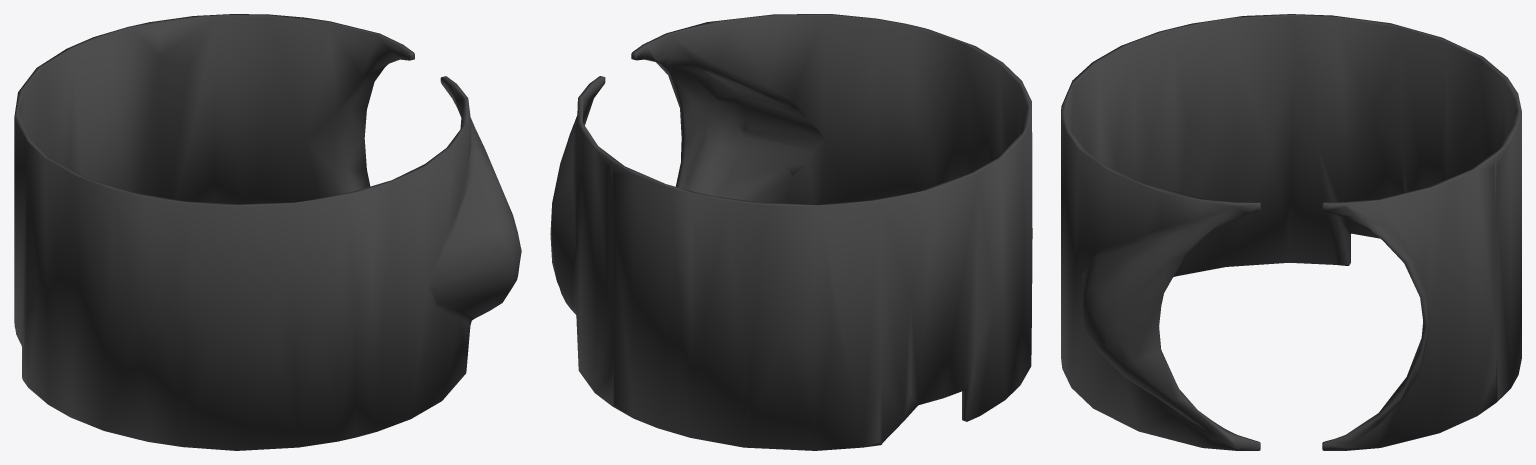
The model's file is shoulder_lift.dae.
The picture shows the model from 3 angles, left to right: view 1: azimuth 30°, elevation 25°; view 2: azimuth 150°, elevation 25°; view 3: azimuth 270°, elevation 25°; orthographic projection.
Parts seen in each view (by area): view 1: shoulder_lift_M; view 2: shoulder_lift_M; view 3: shoulder_lift_M.
Part boxes in pixels (x1,y1,x2,y2): shoulder_lift_M: (14, 14, 521, 450); shoulder_lift_M: (550, 14, 1032, 450); shoulder_lift_M: (1061, 14, 1521, 450).
Bounding box in the file's own units: 0.2483 × 0.15 × 0.254.
1 material, 1 textured.
